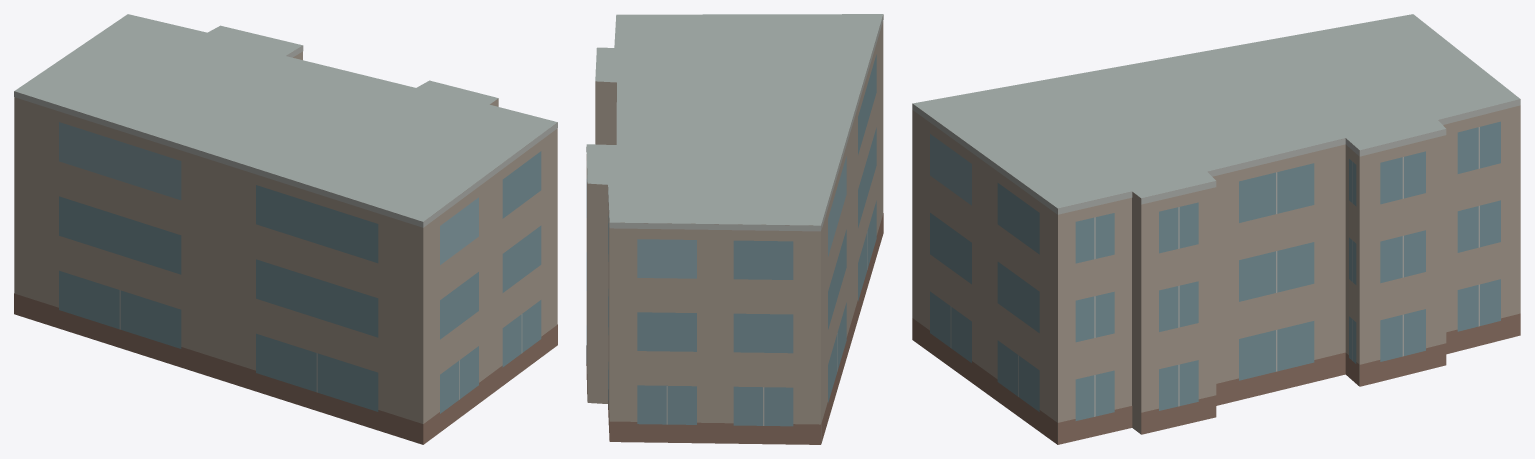
Rendered from survey-upis-32758121.glb.
The picture shows the model from 3 angles, left to right: view 1: azimuth 30°, elevation 25°; view 2: azimuth 150°, elevation 25°; view 3: azimuth 270°, elevation 25°; orthographic projection. The views are drawn at different scales.
Visible parts, largest first — view 1: survey-upis-32758121.tmp; view 2: survey-upis-32758121.tmp; view 3: survey-upis-32758121.tmp.
Part boxes in pixels (box(x1,y1,x2,y2)): survey-upis-32758121.tmp: box(14, 14, 557, 444); survey-upis-32758121.tmp: box(586, 14, 883, 444); survey-upis-32758121.tmp: box(912, 14, 1520, 444).
Size of the model in its own units: 16.15 by 9.15 by 21.34.
